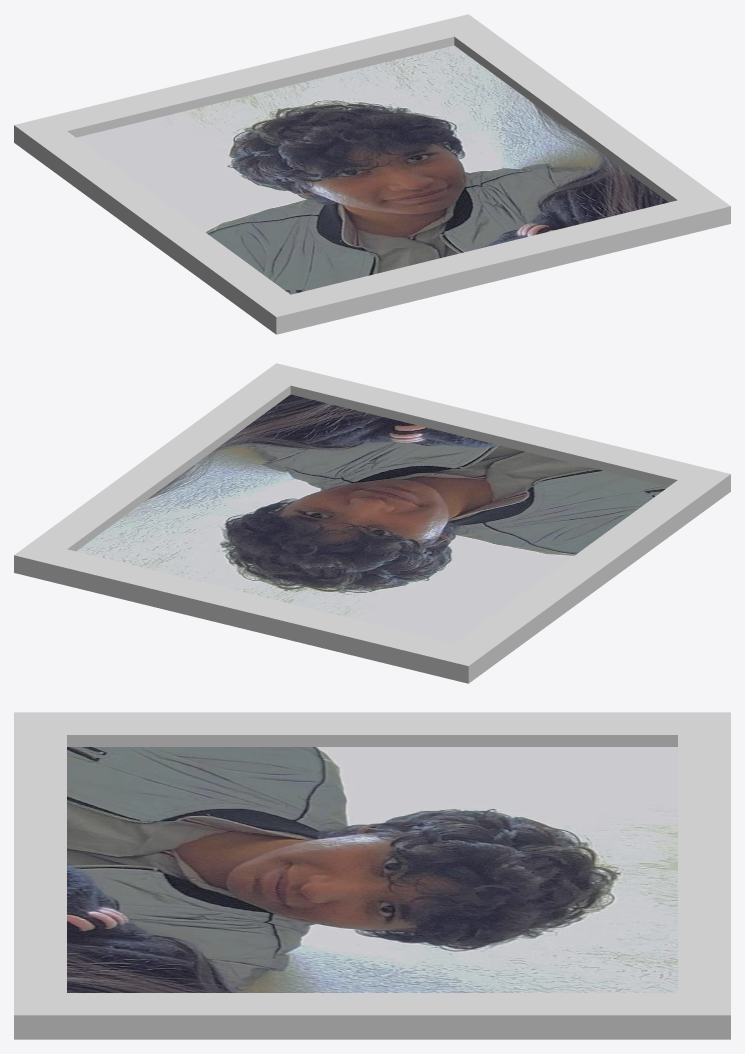
Rendered from Jesher.fbx.
3 renders of one model, top to bottom at view 1: azimuth 30°, elevation 25°; view 2: azimuth 150°, elevation 25°; view 3: azimuth 270°, elevation 25°, orthographic. The views are drawn at different scales.
Visible parts, largest first — view 1: Jechue, Cube; view 2: Jechue, Cube; view 3: Jechue, Cube.
Part boxes in pixels (bbox=[...]): Jechue: bbox=[76, 45, 668, 294]; Cube: bbox=[14, 14, 730, 334]; Jechue: bbox=[76, 394, 668, 643]; Cube: bbox=[14, 363, 730, 683]; Jechue: bbox=[67, 747, 677, 992]; Cube: bbox=[14, 712, 730, 1039].
Bounding box in the file's own units: 108 × 4 × 108.
